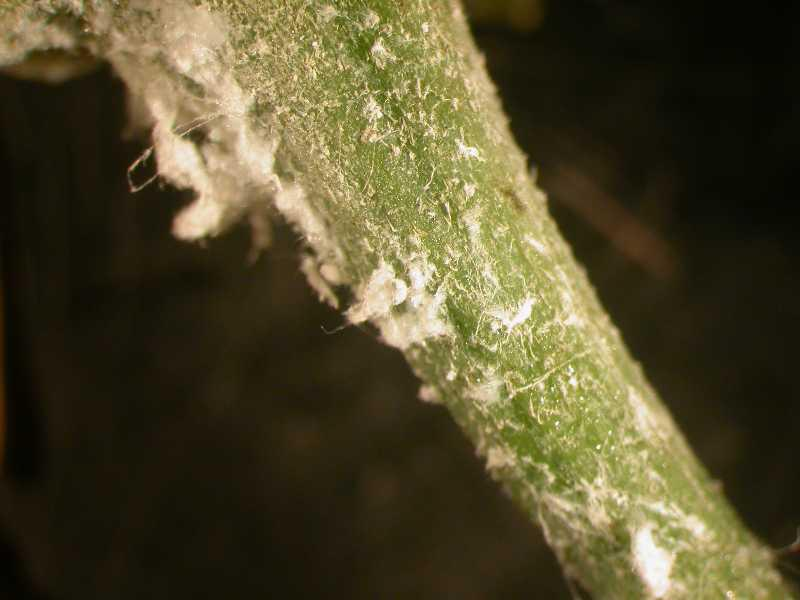Brown_plant_leafhopper: (119, 12, 270, 224), (341, 218, 464, 368)
